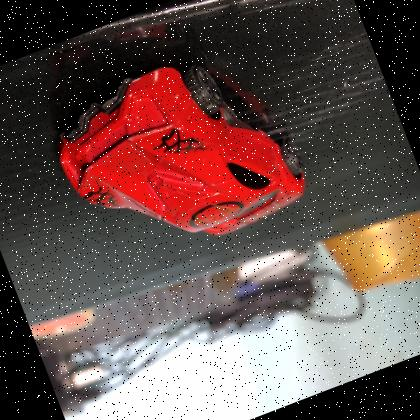Car: (34, 21, 326, 290)
